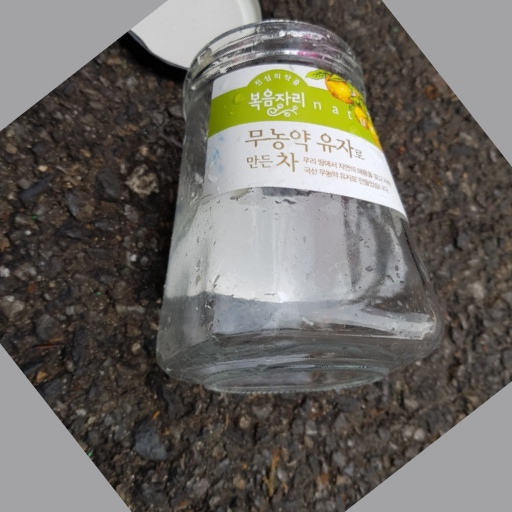Glass_5: (146, 21, 443, 398)
